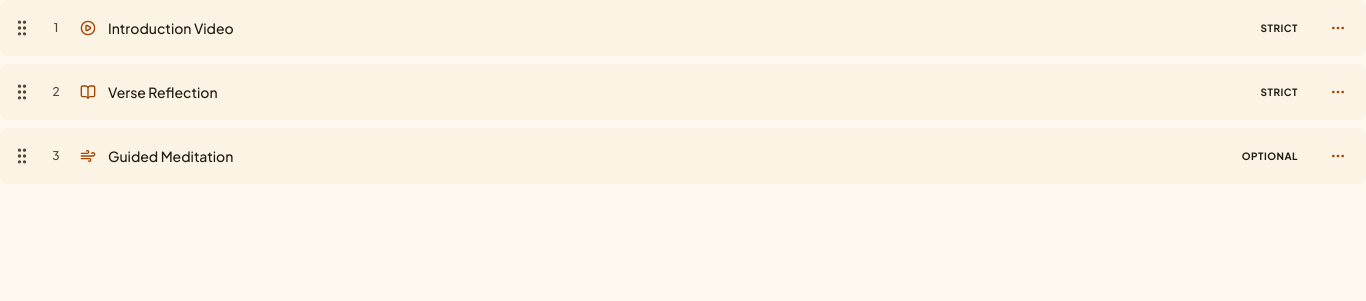
Test: SortablePageList › last page does not show 'Move Down' in overflow menu
Click the button named "Actions for Guided Meditation": (1338, 156) [1322,140,1354,172]
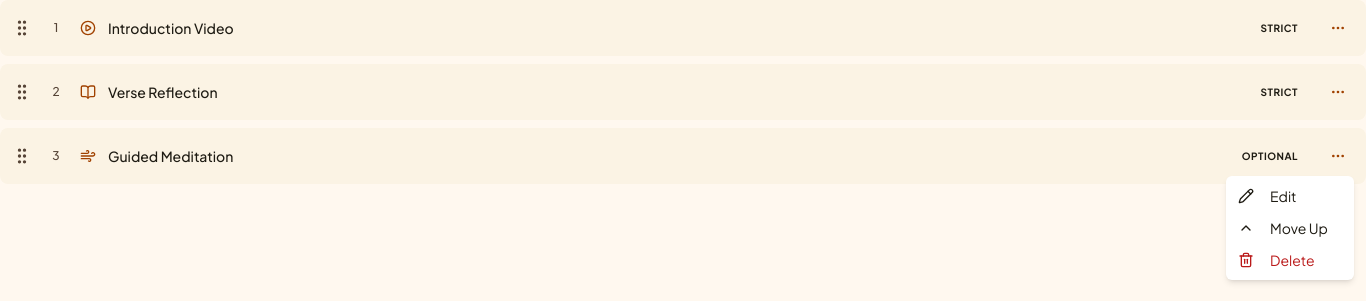
expect the menu item "Move Up" is shown: met, box [1238,219,1328,237]
